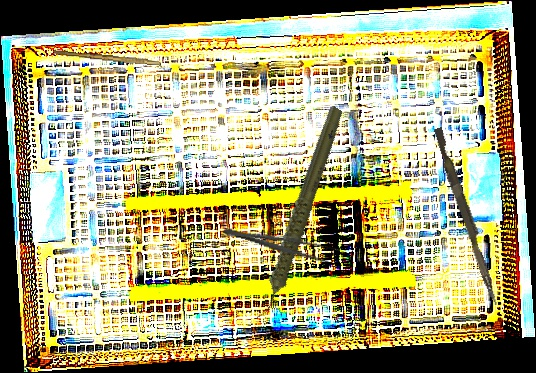Dressing Forceps: (221, 221, 341, 267)
Handpiece: (211, 103, 384, 323)
Pusher: (429, 126, 505, 307)
Scalpel Handle: (53, 49, 162, 66)
